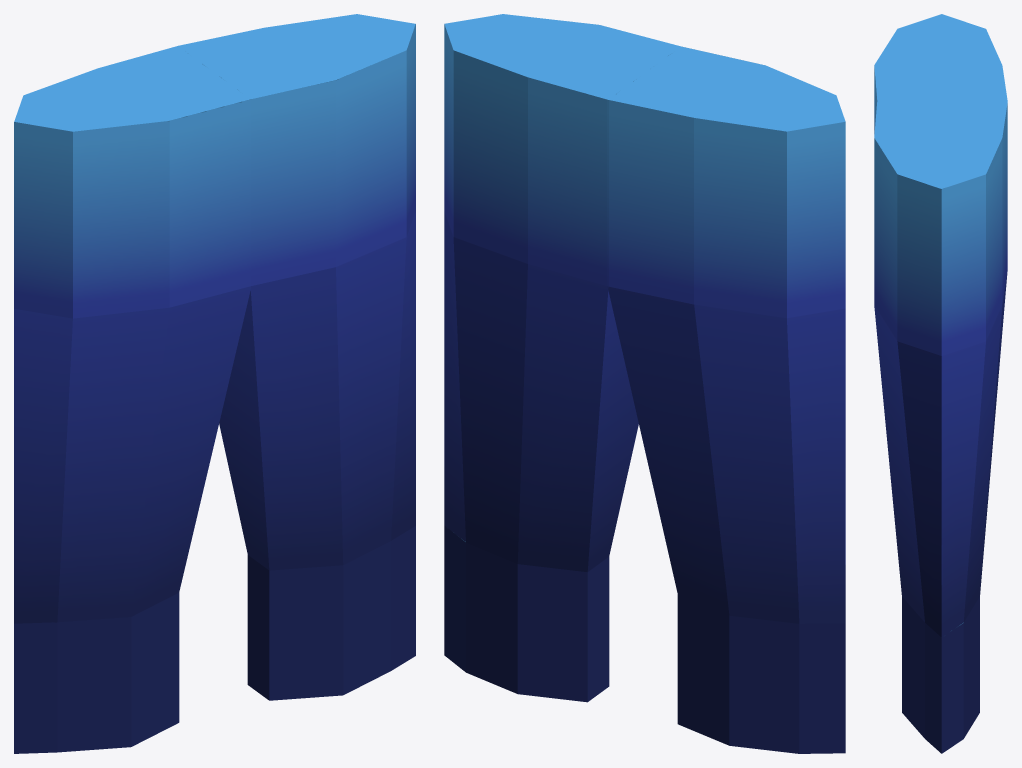
Rendered from Jeans.glb.
3 views of the same model, side by side, from view 1: azimuth 30°, elevation 25°; view 2: azimuth 150°, elevation 25°; view 3: azimuth 270°, elevation 25° (orthographic). The views are drawn at different scales.
Visible parts, largest first — view 1: Plane; view 2: Plane; view 3: Plane.
Boxes of the visible parts, bbox=[...] form: Plane: bbox=[14, 14, 415, 753]; Plane: bbox=[444, 14, 845, 753]; Plane: bbox=[874, 14, 1007, 753].
Size of the model in its own units: 2.54 by 3.82 by 0.8179.
Materials: 1 (1 with a texture image).
